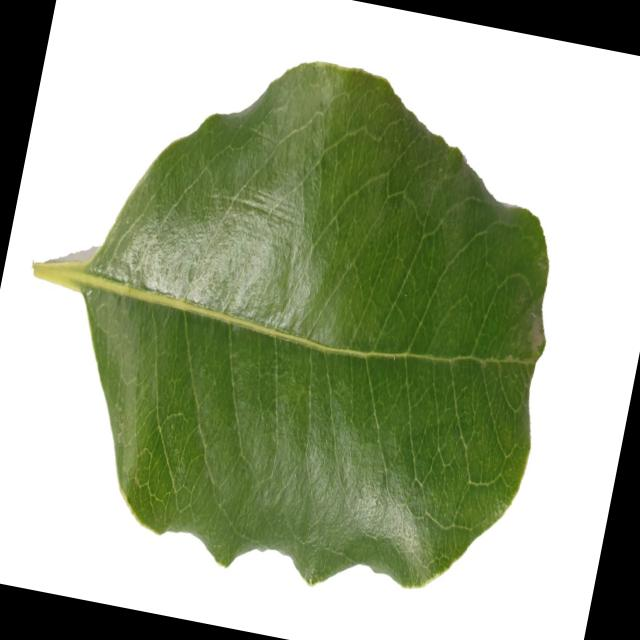Medicinal-Sandalwood: (0, 15, 595, 624)
